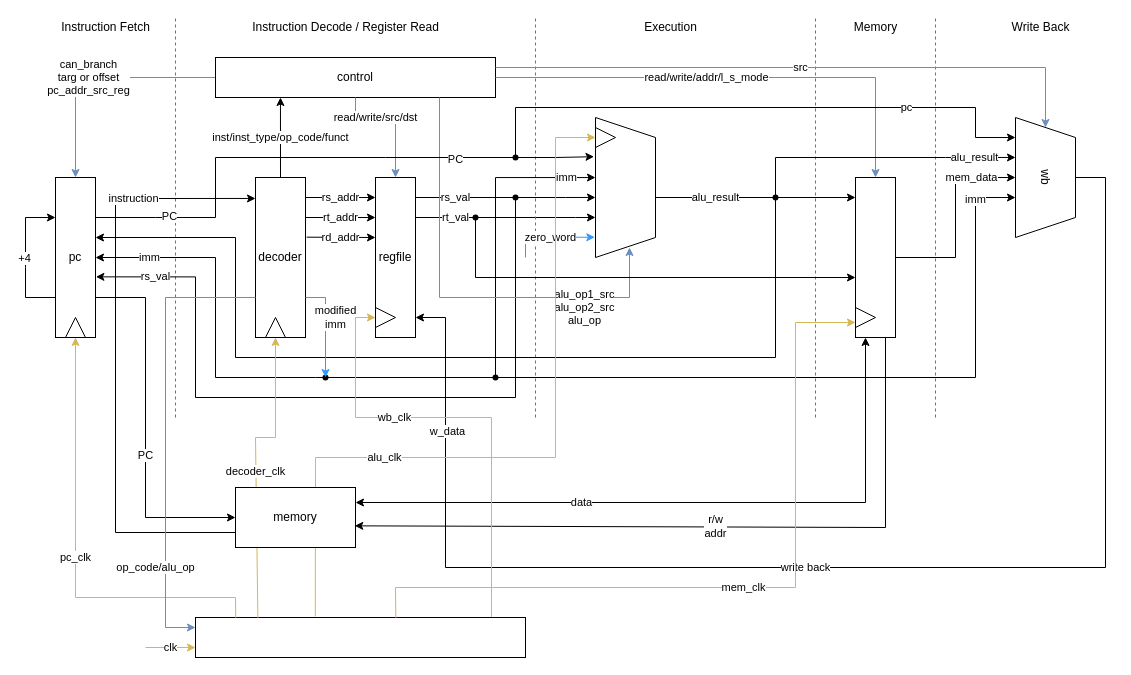
This 1131x675 diagram has some shape labels left out. Here are the shapes that lost their labels. From the top down, the box of each, then its label:
(594, 116, 656, 258): mux and alu
(854, 176, 896, 338): mem mux
(194, 616, 526, 658): fzy_clock_control
